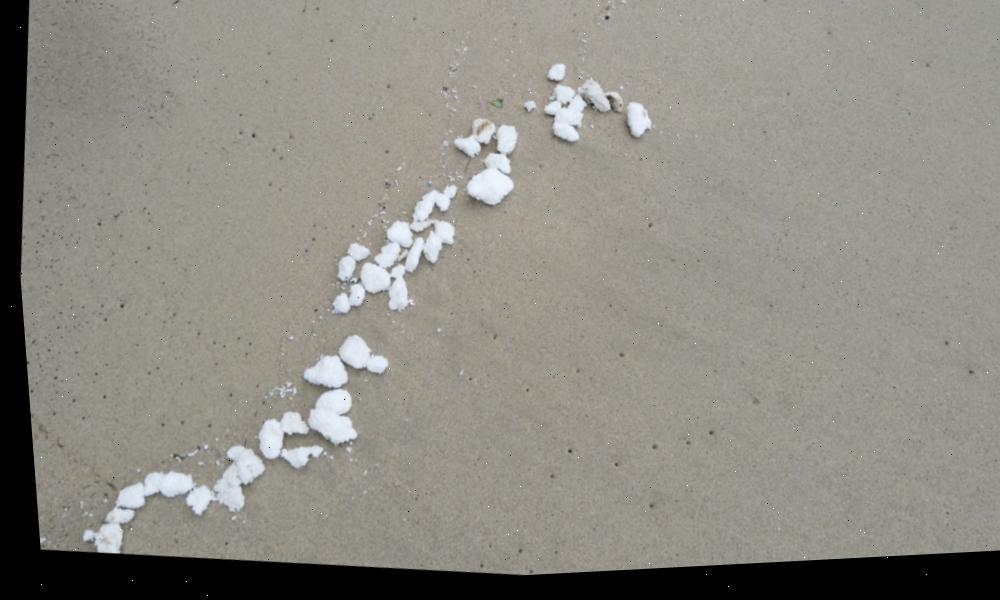styrofoam: (459, 167, 512, 213), (299, 408, 352, 452), (203, 461, 241, 515), (216, 446, 260, 490), (295, 353, 343, 393), (573, 83, 612, 120), (331, 336, 366, 374), (306, 389, 347, 421), (354, 261, 389, 298), (272, 445, 316, 474), (250, 420, 279, 462), (622, 103, 650, 146), (148, 472, 187, 502), (84, 521, 116, 555), (107, 481, 139, 511), (398, 240, 422, 279), (177, 484, 205, 517), (407, 192, 434, 226), (381, 280, 406, 316), (380, 223, 411, 252), (368, 244, 397, 273), (272, 413, 304, 439), (492, 128, 517, 161), (479, 156, 510, 182), (417, 234, 440, 269), (133, 471, 160, 500), (466, 120, 493, 149), (450, 139, 479, 163), (548, 126, 577, 150), (551, 113, 582, 135), (96, 506, 127, 527), (331, 257, 353, 286), (548, 88, 574, 111), (428, 226, 452, 250), (599, 96, 624, 119), (405, 221, 435, 238), (325, 295, 347, 318), (359, 357, 383, 378), (342, 244, 367, 264), (343, 287, 362, 310), (545, 67, 566, 87), (429, 196, 448, 217), (564, 99, 585, 118), (541, 106, 558, 121), (439, 188, 453, 203), (386, 269, 402, 282), (519, 105, 533, 117)
